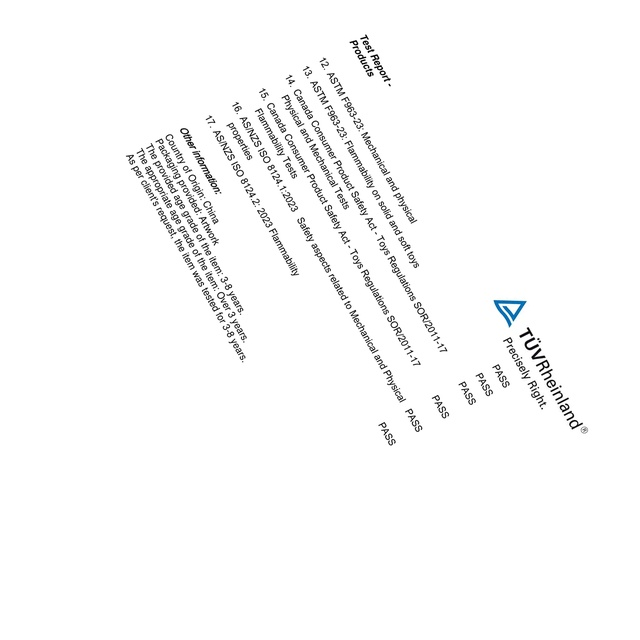tuv_rheinland: (491, 296, 588, 436)
